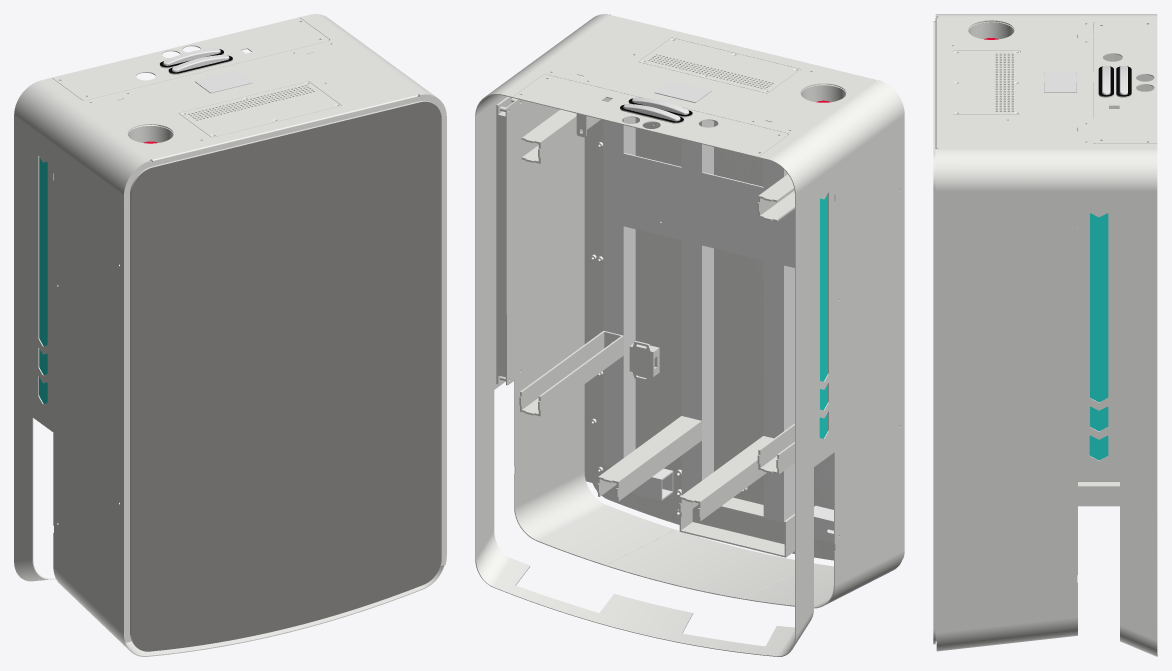
File: enclosure_link.obj
The picture shows the model from 3 angles, left to right: view 1: azimuth 30°, elevation 25°; view 2: azimuth 150°, elevation 25°; view 3: azimuth 270°, elevation 25°; orthographic projection.
Visible parts, largest first — view 1: Body1:27, Body1:2, Body1:3, Body1:10, Body1:5, Body1, Body1:1, Body1:18, Body1:7, Body2:1, Body1:25, Body3; view 2: Body1:7, Body1:2, Body1, Body1:27, Body1:3, Body1:1, Body1:8, Body1:15, Body1:10, Body1:5, Body1:24, Body1:19 (+10 smaller); view 3: Body1, Body1:3, Body1:10, Body1:11, Body1:5, Body1:1, Body1:27, Body1:7, Body1:19, Body1:8, Body2:1, Body1:25 (+2 smaller).
Boxes of the visible parts, x1,y1,x2,y2 form: Body1:27: (130, 101, 441, 651); Body1:2: (14, 123, 151, 642); Body1:3: (14, 14, 446, 202); Body1:10: (52, 17, 329, 100); Body1:5: (179, 81, 341, 137); Body1: (419, 95, 446, 565); Body1:1: (53, 565, 444, 656); Body1:18: (39, 157, 47, 403); Body1:7: (130, 100, 429, 645); Body2:1: (195, 71, 251, 93); Body1:25: (127, 125, 173, 161); Body3: (168, 54, 232, 74); Body1:7: (592, 84, 840, 558); Body1:2: (795, 122, 904, 636); Body1: (475, 100, 610, 558); Body1:27: (592, 118, 834, 560); Body1:3: (475, 14, 904, 201); Body1:1: (514, 472, 904, 608); Body1:8: (475, 531, 813, 656); Body1:15: (498, 99, 523, 385); Body1:10: (512, 74, 788, 157); Body1:5: (639, 38, 799, 93); Body1:24: (519, 331, 623, 416); Body1:19: (597, 416, 701, 501); Body1: (935, 198, 1157, 641); Body1:3: (935, 14, 1157, 198); Body1:10: (1093, 22, 1157, 143); Body1:11: (1089, 213, 1108, 459); Body1:5: (953, 51, 1019, 114); Body1:1: (936, 575, 1077, 651); Body1:27: (933, 21, 935, 644); Body1:7: (934, 21, 935, 642); Body1:19: (1078, 482, 1119, 506); Body1:8: (1120, 501, 1157, 656); Body2:1: (1044, 72, 1076, 92); Body1:25: (968, 21, 1014, 39).
Bounding box in the file's own units: 0.47 × 0.7184 × 0.2805.
